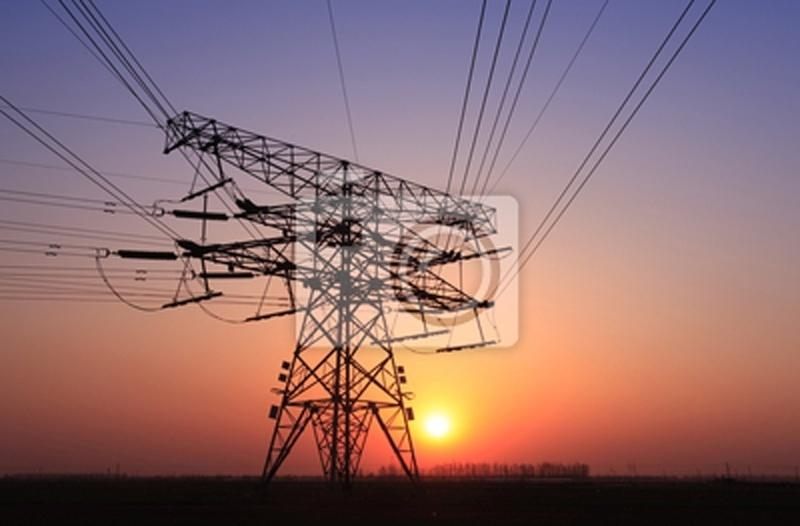power_tower: (150, 93, 522, 469)
